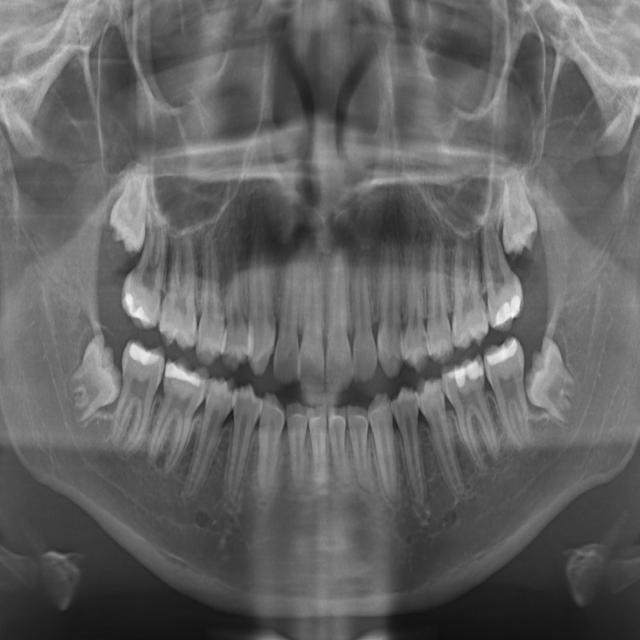3M ESPE Implant: (105, 160, 151, 258)
AGS Medikal Implant: (347, 251, 378, 382)
AMerOss Implant: (374, 216, 404, 381)
Amalgam filling: (399, 225, 430, 373)
Anthogyr Implant: (417, 222, 455, 364)
Bicon Implant: (442, 223, 491, 351)
BioHorizons Implant: (477, 211, 527, 335)
BioLife Implant: (501, 165, 539, 260)
Biomet 3i Implant: (505, 331, 592, 437)
Blue Sky Bio Implant: (481, 334, 535, 455)
Camlog Implant: (436, 351, 516, 478)
Caries: (117, 211, 171, 333)
Composite filling: (413, 370, 468, 503)
Cowellmedi Implant: (392, 384, 429, 512)
Crown: (368, 389, 400, 507)
DENTSPLY Implant: (346, 400, 374, 497)
Dentatus Implant: (327, 403, 351, 488)
Dentis Implant: (307, 399, 329, 487)
Dentium Implant: (286, 398, 312, 498)
Euroteknika Implant: (249, 391, 289, 500)
Filling: (214, 381, 265, 512)
Frontier Implant: (181, 372, 240, 506)
Hiossen Implant: (155, 224, 208, 352)
Implant: (104, 337, 168, 465)
Implant Direct: (143, 354, 211, 482)
Keystone Dental Implant: (58, 330, 126, 426)
MIS Implant: (194, 226, 228, 367)
Mandible: (221, 209, 249, 371)
Maxilla: (246, 211, 277, 381)
Megagen Implant: (272, 241, 300, 384)
Neodent Implant: (301, 234, 325, 393)
Neoss Implant: (320, 243, 352, 393)
